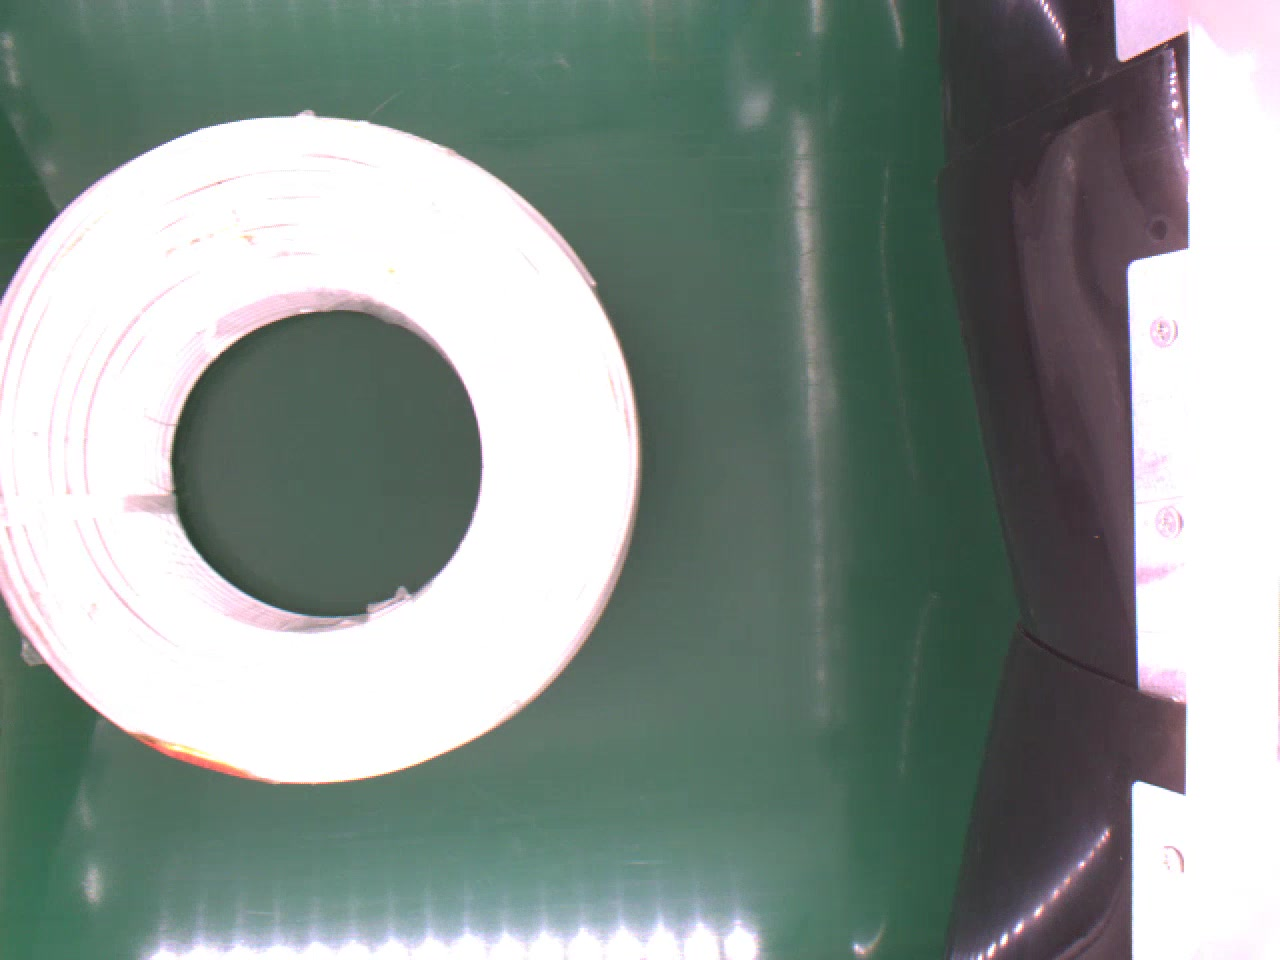white: (0, 110, 642, 795)
